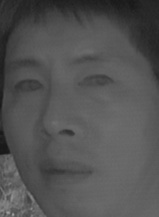eye: (76, 71, 115, 95), (9, 75, 44, 96)
mouth: (36, 152, 94, 189)
